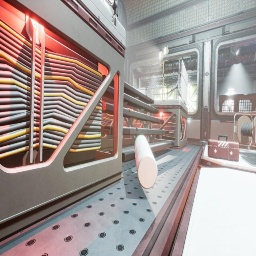0: (134, 134, 158, 189)
FirstAidBox ,: (208, 134, 240, 162)
